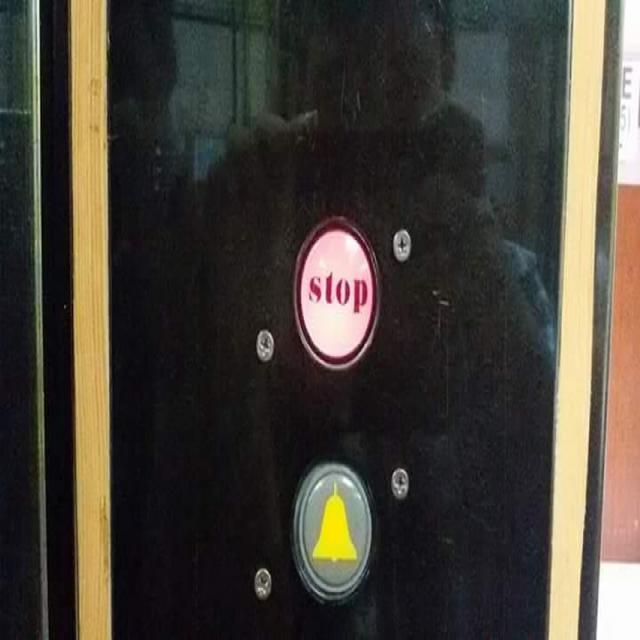alarm: (285, 451, 381, 604)
stop: (288, 202, 384, 370)
